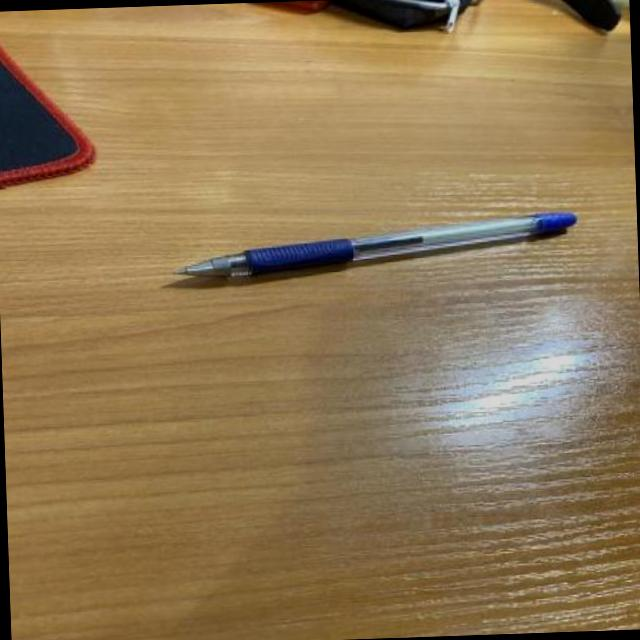Pen - Non Recyclable: (168, 208, 580, 282)
